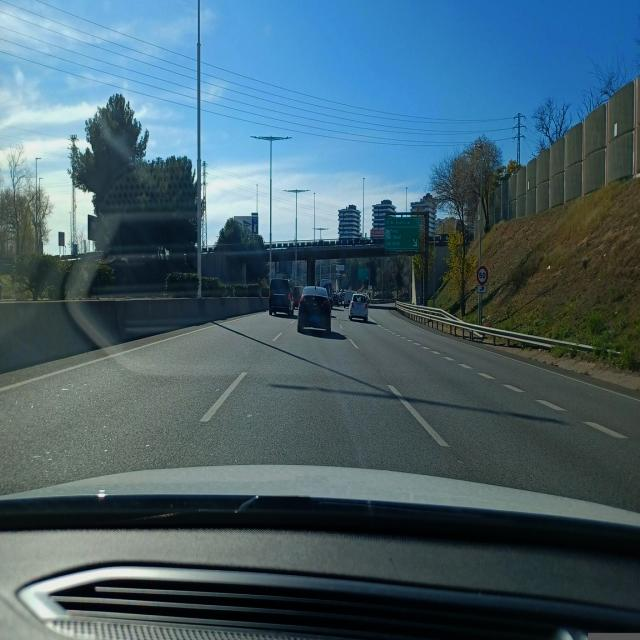car: (297, 284, 332, 337), (268, 275, 295, 317), (348, 292, 368, 322), (292, 284, 303, 308)
